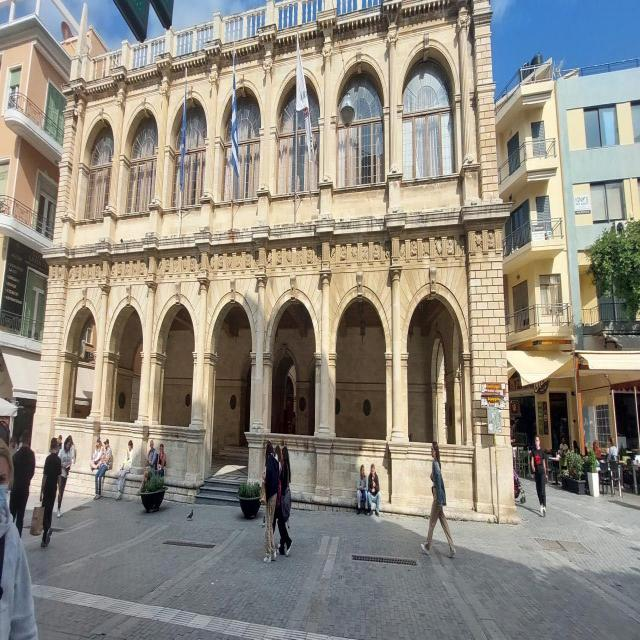Loggia: (30, 1, 526, 529)
